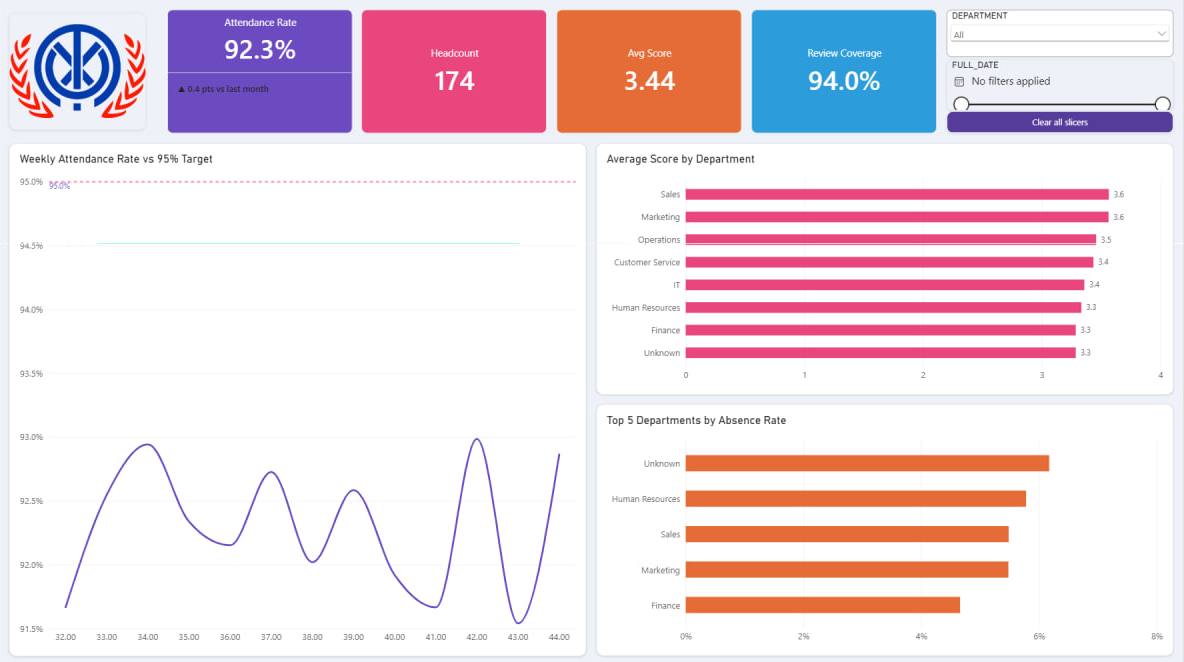

This screenshot's page, from the dashboard's own definition file:
{"tool":"powerbi","page":{"name":"Overview","canvas":[1920,1080],"ordinal":0},"visuals":[{"type":"cardVisual","fields":{"Data":["FACT_ATTENDANCE.Attendance Rate"]},"box":[272,16,300,200],"z":0},{"type":"cardVisual","fields":{"Data":["DIM_EMPLOYEE.Headcount"]},"box":[588,16,300,200],"z":1000},{"type":"cardVisual","fields":{"Data":["FACT_PERFORMANCE.Avg Score"]},"box":[904,16,300,200],"z":2000},{"type":"cardVisual","fields":{"Data":["FACT_PERFORMANCE.Review Coverage"]},"box":[1220,16,300,200],"z":3000},{"type":"lineChart","title":"Weekly Attendance Rate vs 95% Target","fields":{"Category":["DIM_DATE.WEEK_OF_YEAR"],"Y":["FACT_ATTENDANCE.Attendance Rate"]},"box":[16,232,936,832],"z":4000},{"type":"clusteredBarChart","title":"Average Score by Department","fields":{"Category":["DIM_EMPLOYEE.DEPARTMENT"],"Y":["FACT_PERFORMANCE.Avg Score"]},"box":[968,232,936,408],"z":5000},{"type":"clusteredBarChart","title":"Top 5 Departments by Absence Rate","fields":{"Category":["DIM_EMPLOYEE.DEPARTMENT"],"Y":["FACT_ATTENDANCE.Absence Rate"]},"box":[968,656,936,408],"z":6000},{"type":"slicer","fields":{"Values":["DIM_EMPLOYEE.DEPARTMENT"]},"box":[1536,16,368,76],"z":7000},{"type":"image","box":[15.6,21.1,222.2,190],"z":8000},{"type":"slicer","fields":{"Values":["DIM_DATE.FULL_DATE"]},"box":[1536,96,368,84],"z":9000},{"type":"actionButton","box":[1536,180,368,36],"z":9001}]}

Visuals, with their boxes in screenshot pixels (x1, y1, x2, y2), scaled from the page's 1920x1080 canvas onto the 1184x662 screenshot:
cardVisual - FACT_ATTENDANCE.Attendance Rate: [x1=168, y1=10, x2=353, y2=132]
cardVisual - DIM_EMPLOYEE.Headcount: [x1=363, y1=10, x2=548, y2=132]
cardVisual - FACT_PERFORMANCE.Avg Score: [x1=557, y1=10, x2=742, y2=132]
cardVisual - FACT_PERFORMANCE.Review Coverage: [x1=752, y1=10, x2=937, y2=132]
"Weekly Attendance Rate vs 95% Target" lineChart: [x1=10, y1=142, x2=587, y2=652]
"Average Score by Department" clusteredBarChart: [x1=597, y1=142, x2=1174, y2=392]
"Top 5 Departments by Absence Rate" clusteredBarChart: [x1=597, y1=402, x2=1174, y2=652]
slicer - DIM_EMPLOYEE.DEPARTMENT: [x1=947, y1=10, x2=1174, y2=56]
image: [x1=10, y1=13, x2=147, y2=129]
slicer - DIM_DATE.FULL_DATE: [x1=947, y1=59, x2=1174, y2=110]
actionButton: [x1=947, y1=110, x2=1174, y2=132]
